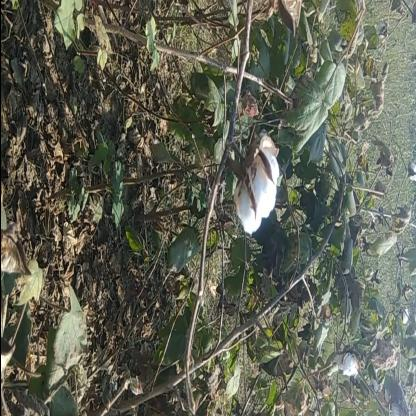cotton_ready: (209, 129, 286, 238)
